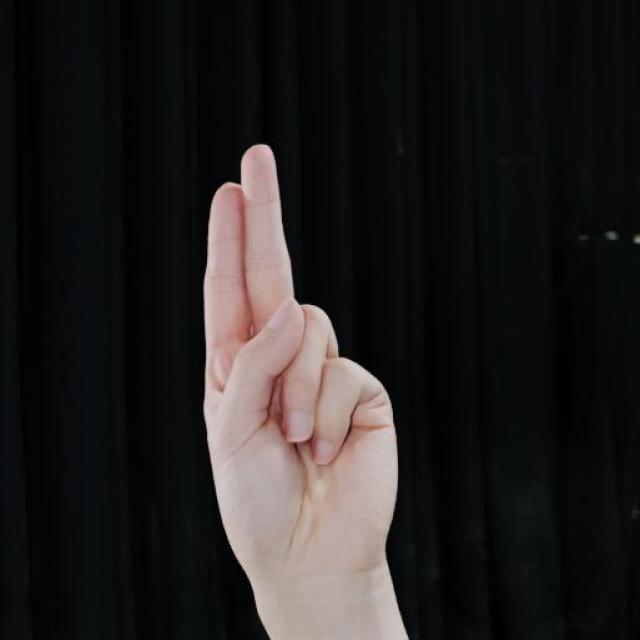U: (194, 140, 402, 594)
